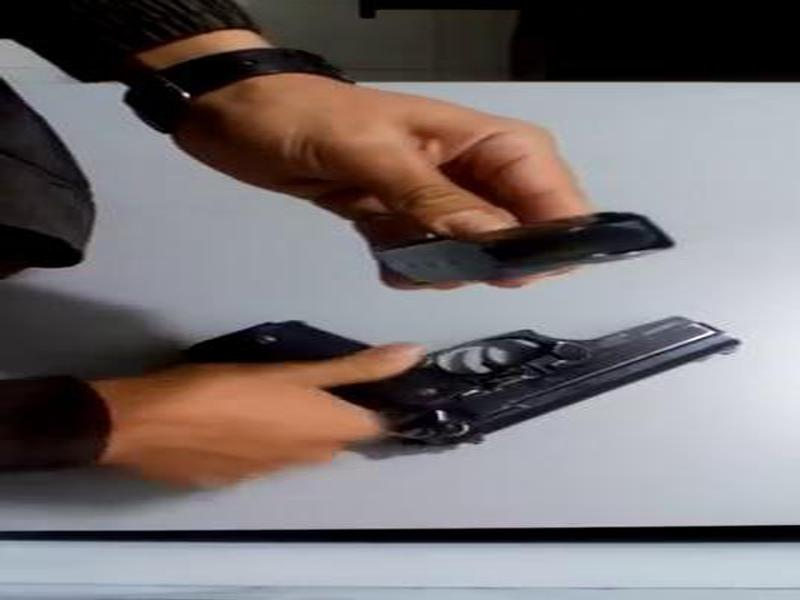Pistola: (187, 288, 757, 493)
